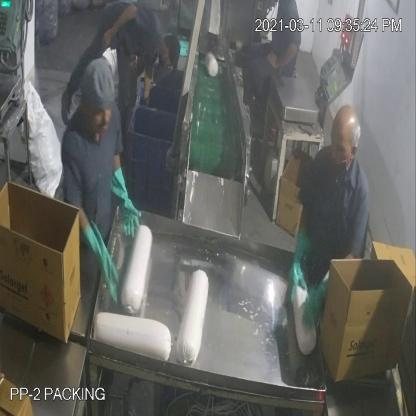no_glove: (97, 3, 141, 49), (263, 39, 300, 76)
